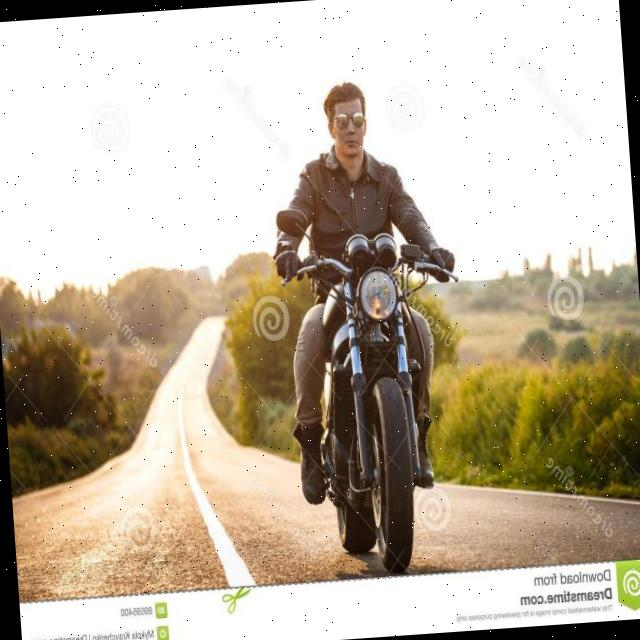No helmet: (307, 72, 390, 166)
